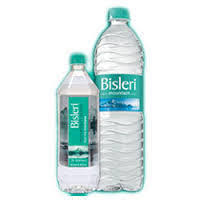Bisleri: (67, 96, 93, 165), (97, 76, 140, 92)
plastic: (92, 14, 145, 189), (53, 90, 101, 189)
